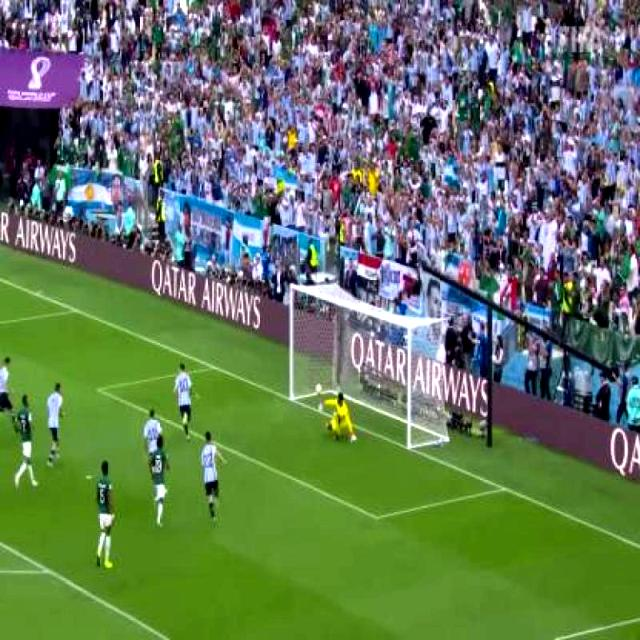bigarea_top_outter: (62, 292, 86, 330)
bottom_arc_area_intersection: (32, 546, 60, 594)
smallarea_bottom_inner: (362, 495, 392, 537)
smallarea_bottom_outter: (490, 470, 516, 505)
smallarea_top_inner: (88, 374, 110, 409)
smallarea_top_outter: (200, 351, 228, 382)
